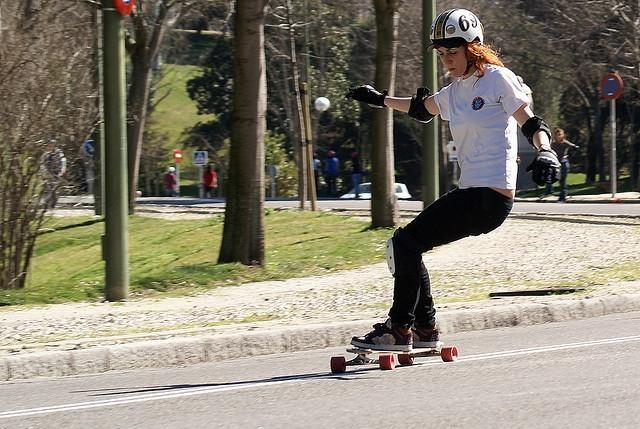car: (340, 182, 412, 200)
